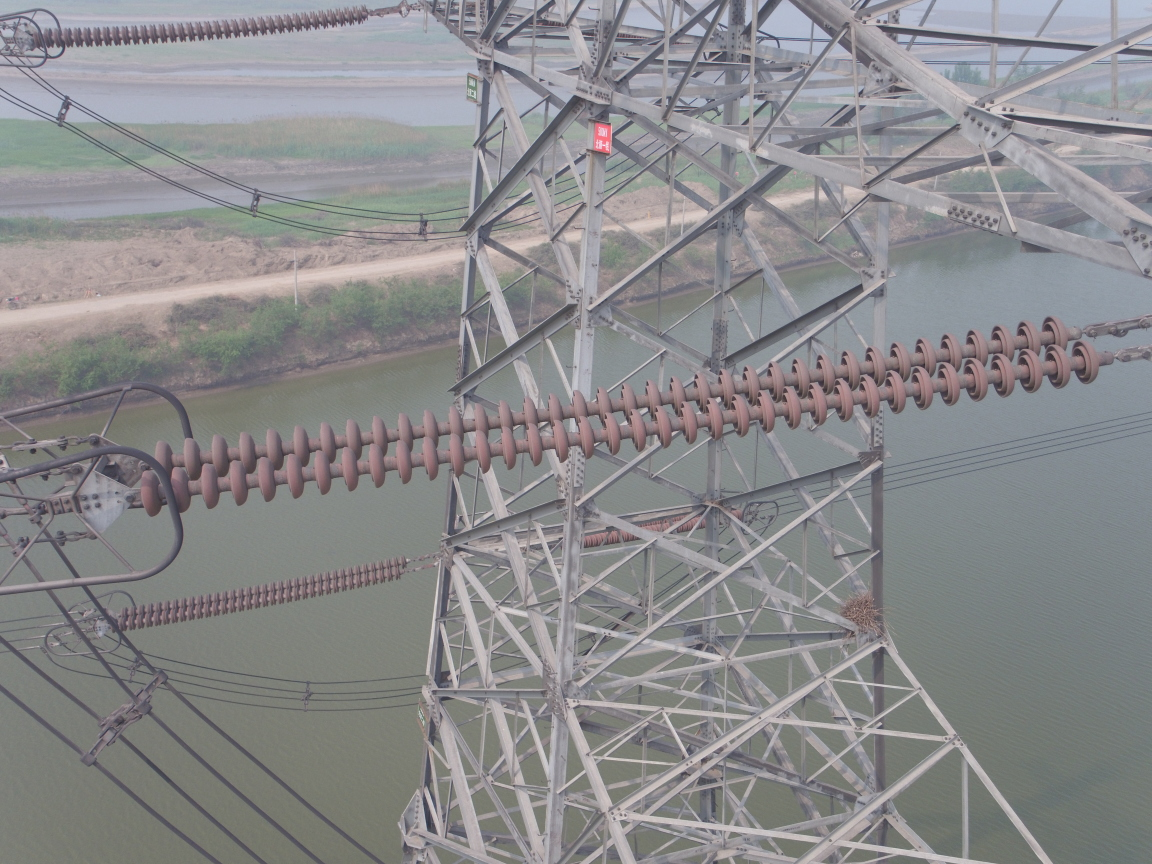insulator: (122, 309, 1152, 520), (110, 550, 422, 633), (18, 1, 396, 52)
